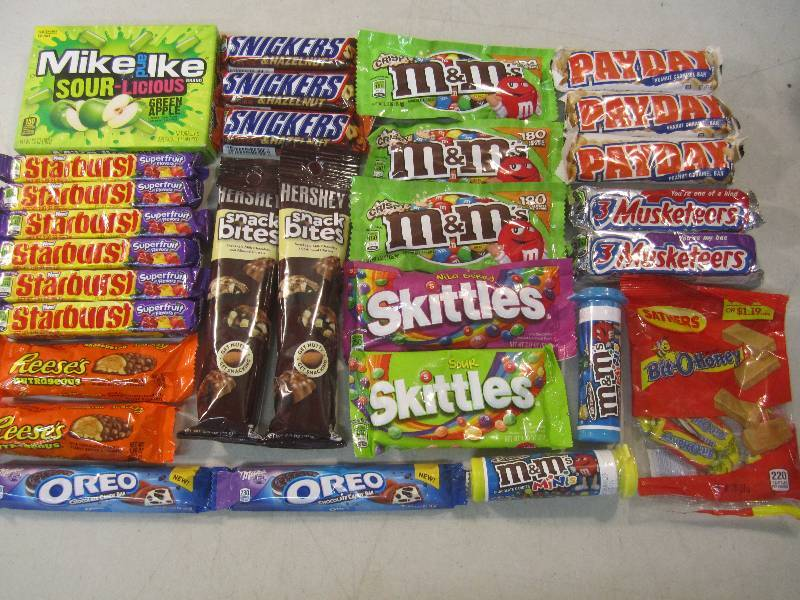skittles: (349, 350, 570, 449)
